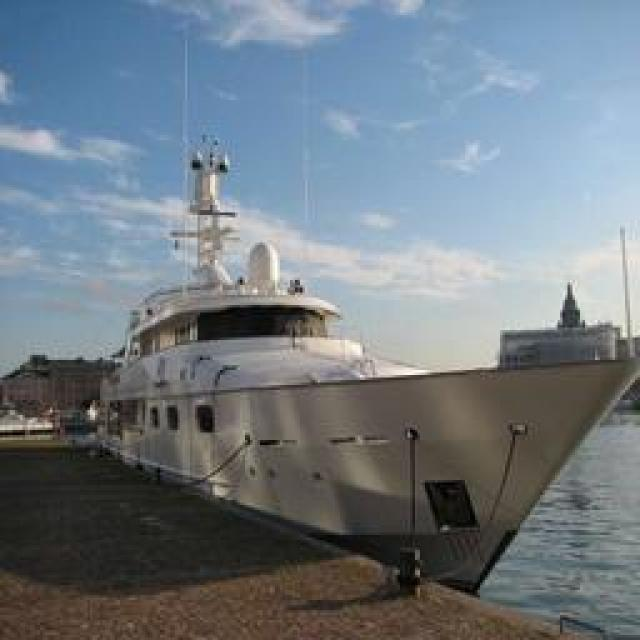CIV_Ship: (82, 184, 636, 584)
